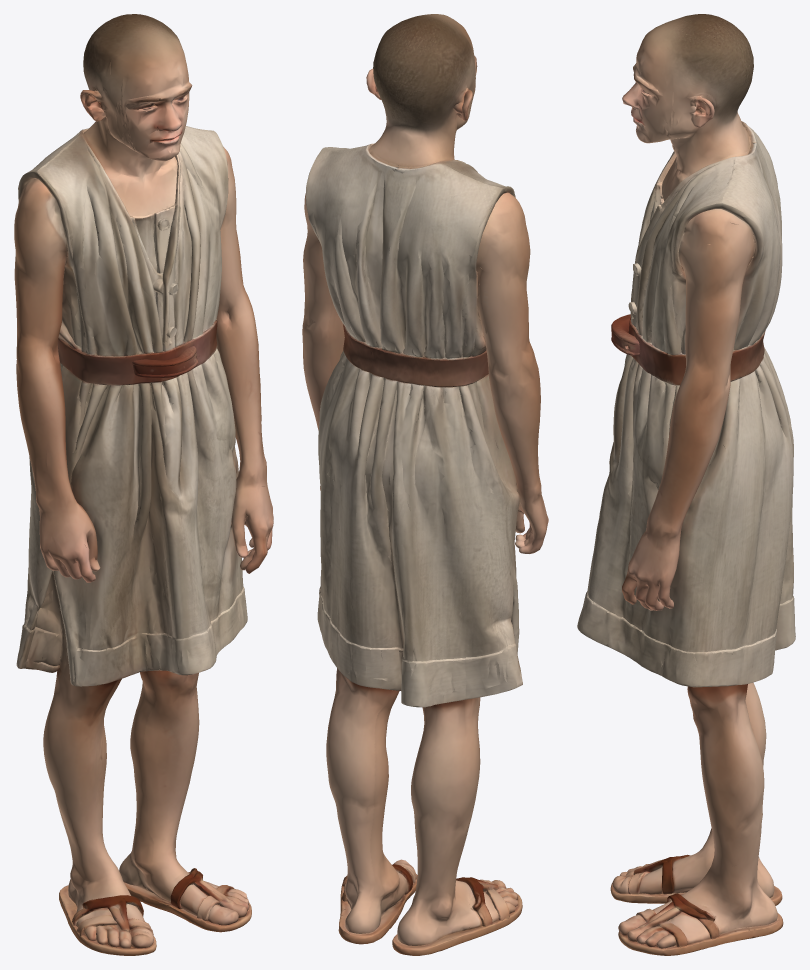
Rendered from crowd_apprentice_boy_rodin_source.glb.
3 views of the same model, side by side, from view 1: azimuth 30°, elevation 25°; view 2: azimuth 150°, elevation 25°; view 3: azimuth 270°, elevation 25° (orthographic).
Visible parts, largest first — view 1: model; view 2: model; view 3: model.
Part boxes in pixels (x1=…): model: x1=14, y1=14, x2=273, y2=955; model: x1=302, y1=14, x2=548, y2=955; model: x1=577, y1=14, x2=795, y2=955.
Size of the model in its own units: 0.517 by 1.9 by 0.4207.
Materials: 1 (1 with a texture image).
